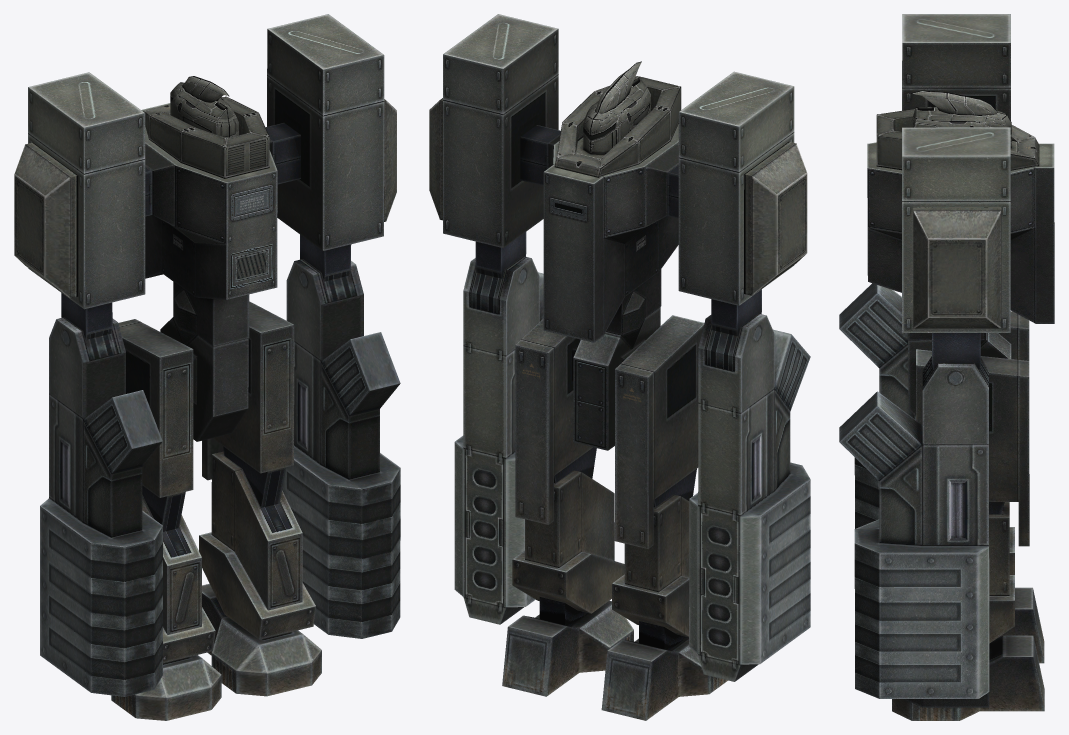
The model's file is Hammer.FBX.
3 renders of one model, left to right at view 1: azimuth 30°, elevation 25°; view 2: azimuth 150°, elevation 25°; view 3: azimuth 270°, elevation 25°, orthographic. The views are drawn at different scales.
Visible parts, largest first — view 1: L Forearm, R Forearm, L UpperArm, R UpperArm, Spine1, R Calf, R Thigh, L Thigh, Box01, R Foot, Pelvis, L Calf (+2 smaller); view 2: L Forearm, L UpperArm, R UpperArm, R Forearm, Spine1, L Thigh, R Calf, R Thigh, Box01, L Calf, R Foot, L Foot (+2 smaller); view 3: R Forearm, R UpperArm, Spine1, L UpperArm, R Thigh, L Forearm, Box01, R Foot, R Calf, L Foot, Pelvis, L Thigh.
Part boxes in pixels (box(x1,y1,x2,y2)): L Forearm: box(40, 317, 162, 696); R Forearm: box(282, 259, 400, 638); L UpperArm: box(14, 72, 145, 339); R UpperArm: box(267, 14, 396, 281); Spine1: box(141, 103, 300, 299); R Calf: box(199, 451, 315, 639); R Thigh: box(202, 301, 294, 507); L Thigh: box(118, 319, 193, 531); Box01: box(143, 76, 269, 178); R Foot: box(202, 583, 321, 696); Pelvis: box(160, 317, 248, 441); L Calf: box(142, 495, 215, 663); L Forearm: box(689, 313, 810, 681); L UpperArm: box(678, 71, 807, 336); R UpperArm: box(429, 14, 558, 278); R Forearm: box(454, 256, 543, 624); Spine1: box(520, 124, 678, 342); L Thigh: box(614, 315, 704, 548); R Calf: box(512, 470, 624, 625); R Thigh: box(515, 318, 596, 524); Box01: box(554, 61, 681, 177); L Calf: box(612, 494, 689, 650); R Foot: box(502, 600, 633, 696); L Foot: box(601, 637, 727, 720); R Forearm: box(839, 356, 989, 707); R UpperArm: box(902, 127, 1010, 369); Spine1: box(867, 142, 1054, 323); L UpperArm: box(902, 14, 1010, 120); R Thigh: box(916, 349, 1029, 546); L Forearm: box(839, 283, 915, 528); Box01: box(876, 90, 1039, 170); R Foot: box(892, 635, 1044, 720); R Calf: box(989, 502, 1014, 658); L Foot: box(998, 587, 1044, 663); Pelvis: box(908, 333, 1011, 416); L Thigh: box(998, 311, 1029, 360).
Size of the model in its own units: 4.14 by 6.82 by 2.25.
